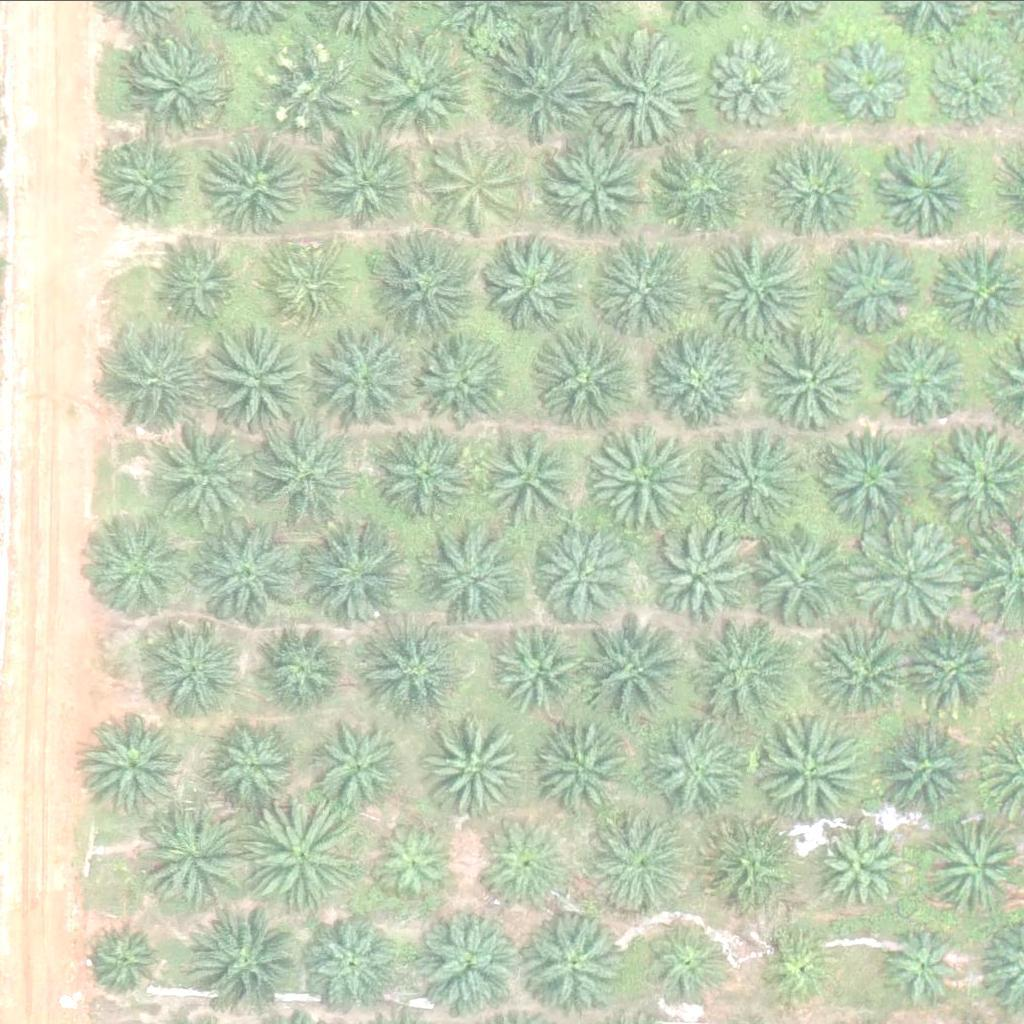Kelapa_Sawit: (197, 903, 311, 1016), (296, 521, 410, 634), (146, 793, 259, 906), (753, 721, 866, 834), (191, 522, 304, 635), (591, 422, 704, 535), (146, 420, 259, 533), (202, 326, 315, 439), (698, 230, 811, 343), (249, 794, 363, 906), (408, 515, 522, 627), (588, 225, 702, 337), (587, 32, 701, 144), (495, 32, 609, 144), (580, 802, 693, 914), (580, 613, 693, 725), (82, 509, 195, 621), (852, 522, 965, 634), (695, 421, 808, 533), (250, 418, 363, 530), (109, 328, 222, 440), (370, 221, 483, 333), (537, 122, 650, 234), (523, 914, 624, 1014), (699, 802, 800, 902), (89, 714, 190, 814), (434, 719, 535, 819), (646, 720, 747, 820), (875, 729, 976, 829), (806, 626, 907, 726), (706, 616, 807, 716), (361, 620, 462, 720), (140, 616, 241, 716), (533, 522, 634, 622), (649, 525, 750, 625), (814, 427, 915, 527), (376, 425, 477, 525), (480, 426, 581, 526), (315, 329, 416, 429), (537, 332, 638, 432), (645, 326, 746, 426), (770, 327, 871, 427), (822, 234, 923, 334), (481, 227, 582, 327), (203, 133, 304, 233), (427, 136, 528, 236), (657, 141, 758, 241), (772, 137, 873, 237), (880, 136, 981, 236), (127, 36, 228, 136), (275, 39, 376, 139), (300, 914, 400, 1014), (421, 912, 521, 1012), (532, 714, 632, 814), (756, 532, 856, 632), (415, 332, 515, 432), (318, 134, 418, 234), (819, 28, 919, 128), (374, 38, 474, 138), (903, 625, 1003, 725), (926, 35, 1015, 123), (751, 920, 839, 1008), (638, 920, 726, 1008), (819, 825, 907, 913), (371, 811, 459, 899), (263, 237, 351, 325), (106, 132, 194, 220), (883, 926, 971, 1013), (482, 817, 570, 904), (210, 723, 298, 810), (317, 719, 405, 806), (491, 628, 579, 715), (252, 625, 340, 712), (879, 337, 967, 424), (155, 240, 243, 327), (720, 34, 808, 121), (90, 921, 165, 996)
